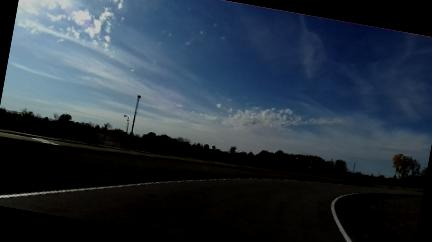Grass: (0, 137, 371, 192), (0, 137, 294, 192), (339, 194, 421, 241)
Lane: (0, 179, 422, 241)
